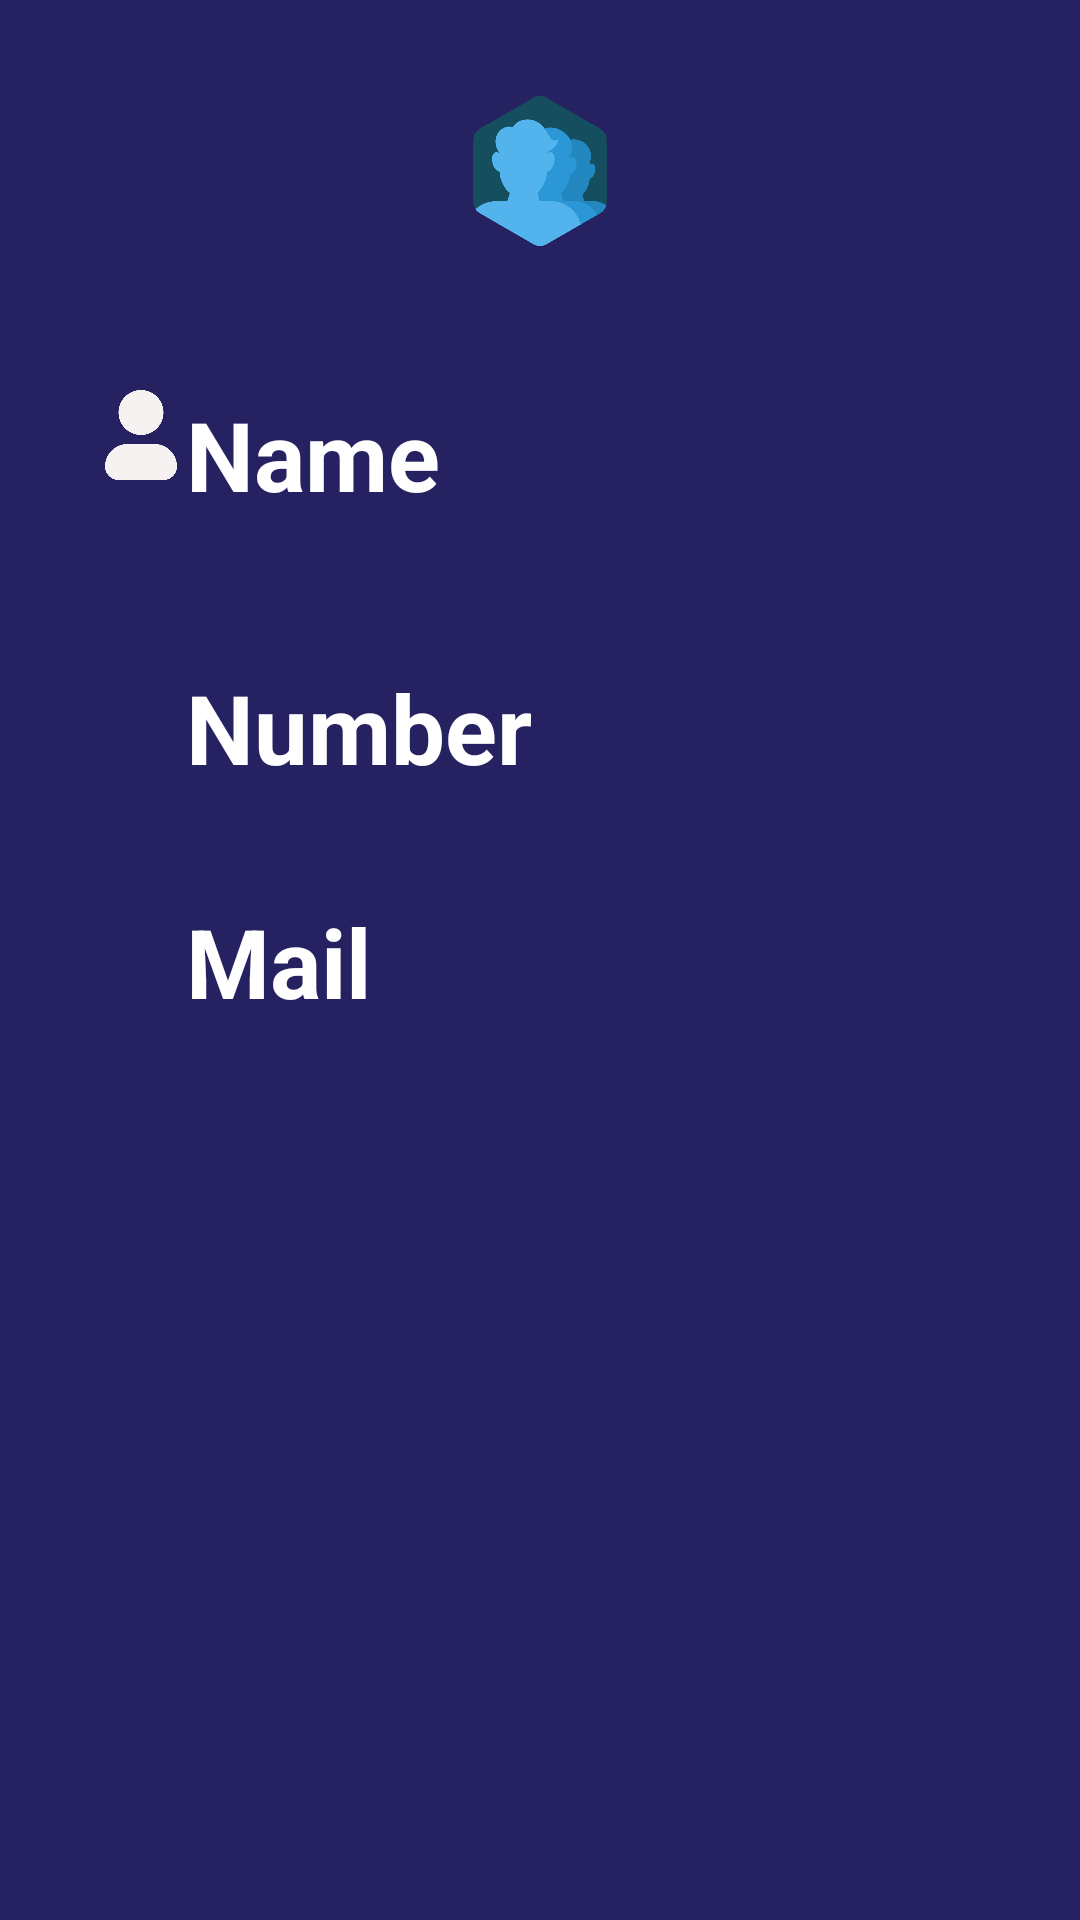

Point at icon controls on the screen. Image size 1080*1920, points as (x,y).
contact: (141,435)
contactimg: (540,171)
